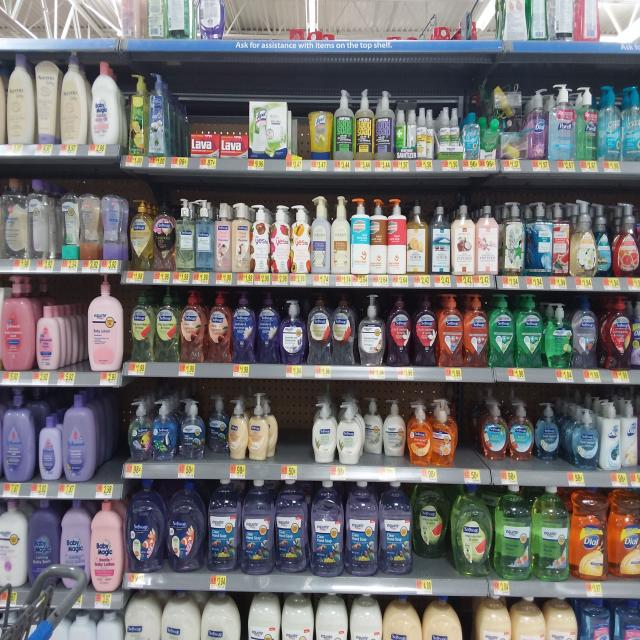void: (272, 382, 310, 463), (60, 272, 88, 368), (97, 394, 123, 486), (457, 382, 480, 468)
